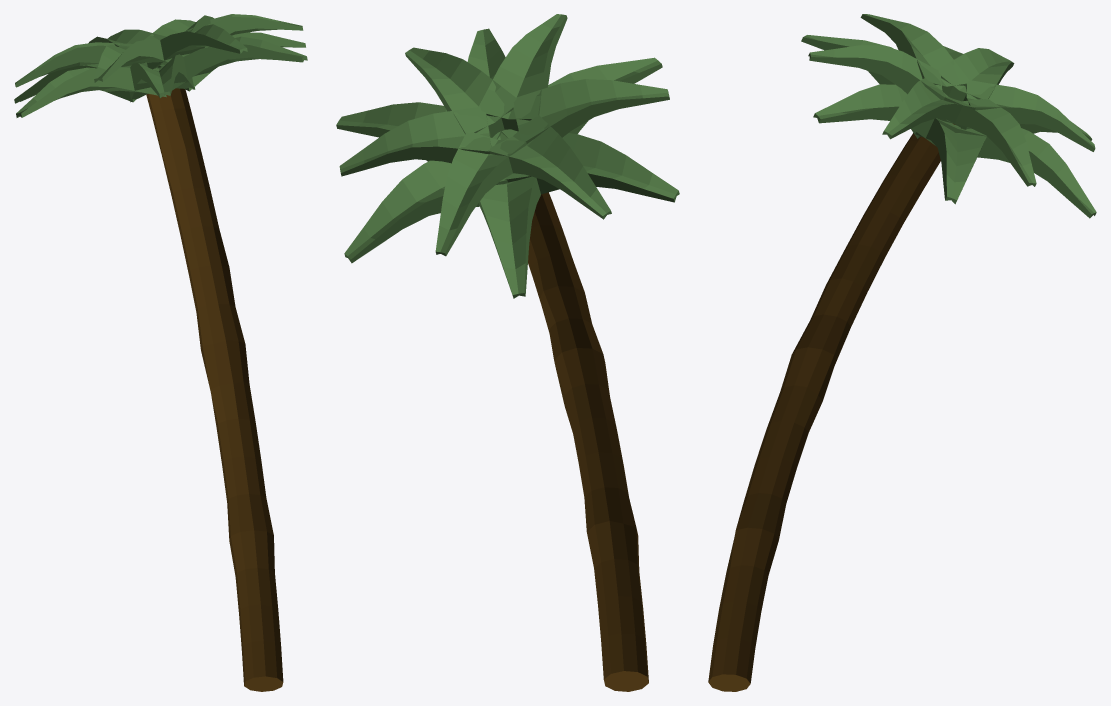
Rendered from Coconut_Tree.glb.
The picture shows the model from 3 angles, left to right: view 1: azimuth 30°, elevation 25°; view 2: azimuth 150°, elevation 25°; view 3: azimuth 270°, elevation 25°; orthographic projection. The views are drawn at different scales.
Parts seen in each view (by area): view 1: CoconutTree; view 2: CoconutTree; view 3: CoconutTree.
Part boxes in pixels (left/top/right/bottom): CoconutTree: left=14, top=14, right=307, bottom=691; CoconutTree: left=336, top=14, right=679, bottom=691; CoconutTree: left=708, top=14, right=1096, bottom=691.
Size of the model in its own units: 4.38 by 8.76 by 4.82.
